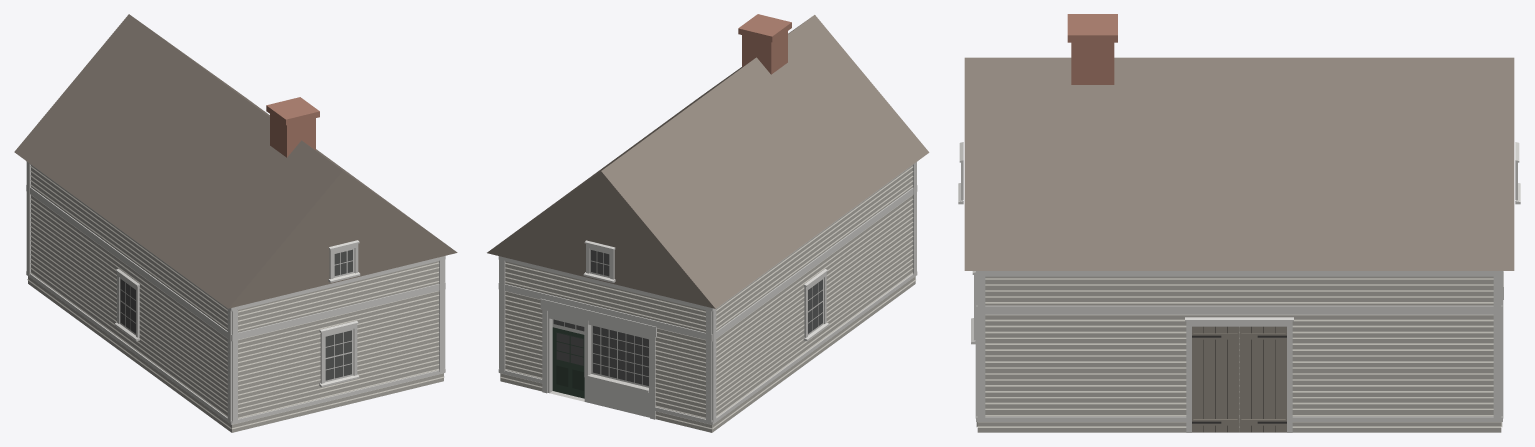
Rendered from recon_1835_core_c2_029__inferred_1835.glb.
3 renders of one model, left to right at view 1: azimuth 30°, elevation 25°; view 2: azimuth 150°, elevation 25°; view 3: azimuth 270°, elevation 25°, orthographic. The views are drawn at different scales.
Visible parts, largest first — view 1: recon_1835_core_c2_029__inferred_1835; view 2: recon_1835_core_c2_029__inferred_1835; view 3: recon_1835_core_c2_029__inferred_1835.
Boxes of the visible parts, x1,y1,x2,y2 form: recon_1835_core_c2_029__inferred_1835: [14, 14, 457, 432]; recon_1835_core_c2_029__inferred_1835: [487, 14, 929, 432]; recon_1835_core_c2_029__inferred_1835: [958, 14, 1520, 432].
Bounding box in the file's own units: 6.61 × 7.31 × 10.92.
